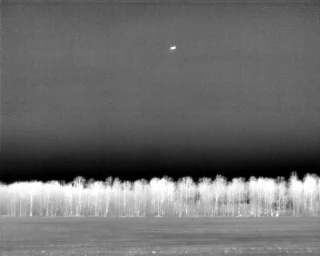DRONE: (167, 42, 180, 54)
